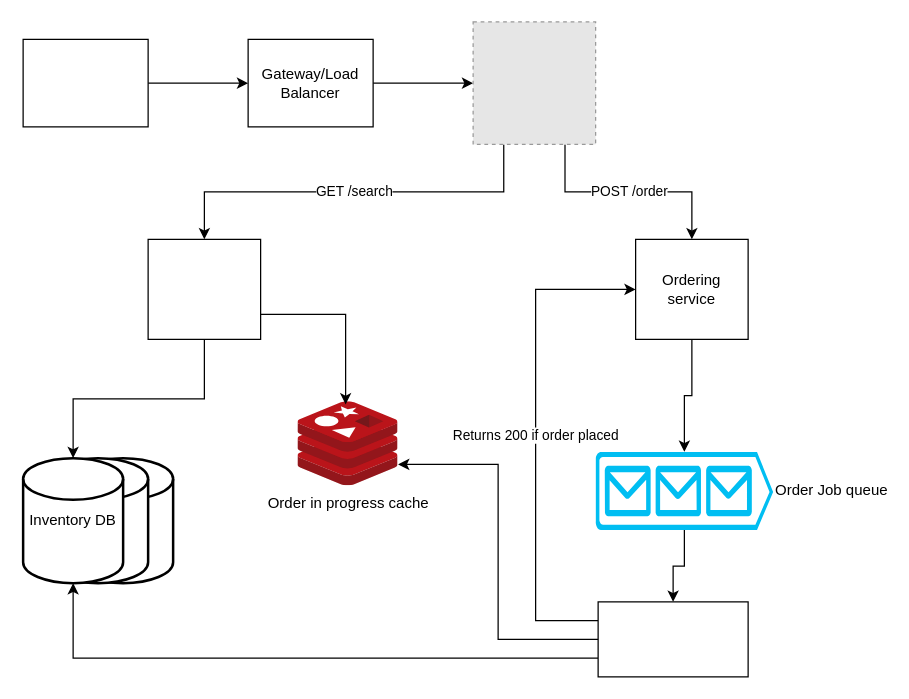
This 909x699 diagram has some shape labels left out. Grey dashed boxes stand in for pictures. The shapes that lost their labels are listed below. From the top down, each one's box as (x1, y1, x2, y2) in pixels, then its label:
(22, 38, 148, 127): User frontend service
(147, 238, 261, 339): Searching Service
(597, 601, 748, 677): Order job processor
